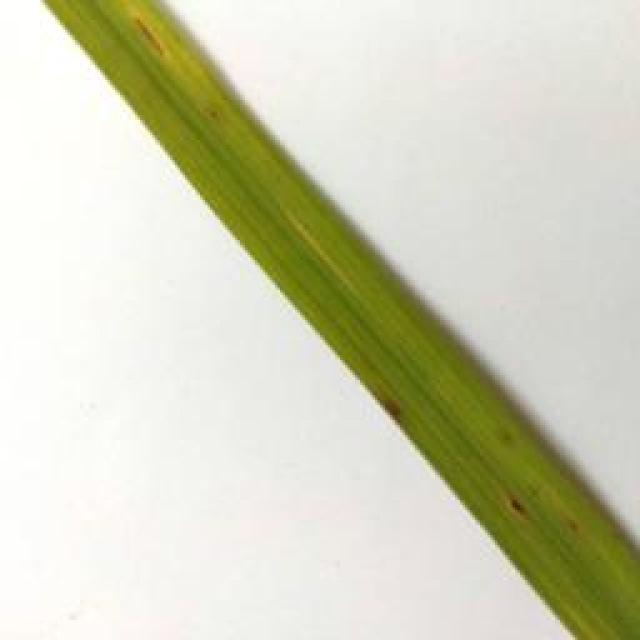Brown_Spot: (125, 16, 171, 66), (500, 490, 537, 532), (369, 398, 412, 430), (494, 412, 518, 446), (208, 104, 234, 133), (562, 518, 590, 540)
